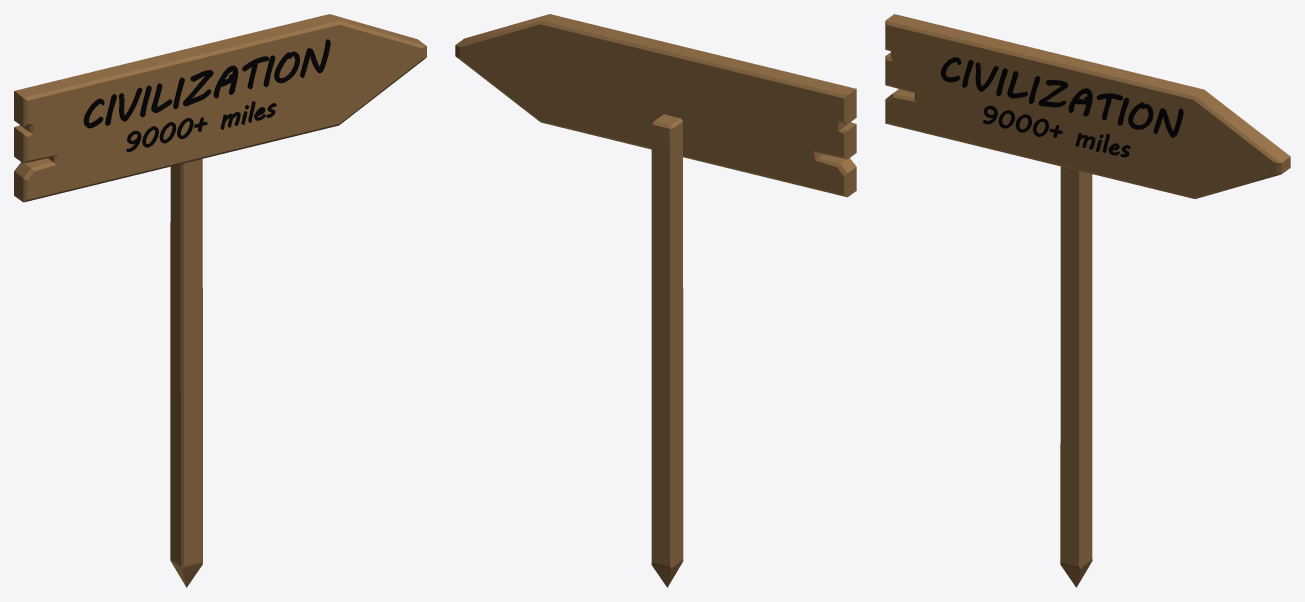
File: DistanceSign_01.fbx
The picture shows the model from 3 angles, left to right: view 1: azimuth 30°, elevation 25°; view 2: azimuth 150°, elevation 25°; view 3: azimuth 330°, elevation 25°; orthographic projection. The views are drawn at different scales.
Parts seen in each view (by area): view 1: polySurface97; view 2: polySurface97; view 3: polySurface97.
Part boxes in pixels (x1,y1,x2,y2): polySurface97: [14, 14, 426, 587]; polySurface97: [455, 14, 856, 587]; polySurface97: [885, 14, 1290, 587].
Size of the model in its own units: 119 by 154 by 12.46.
